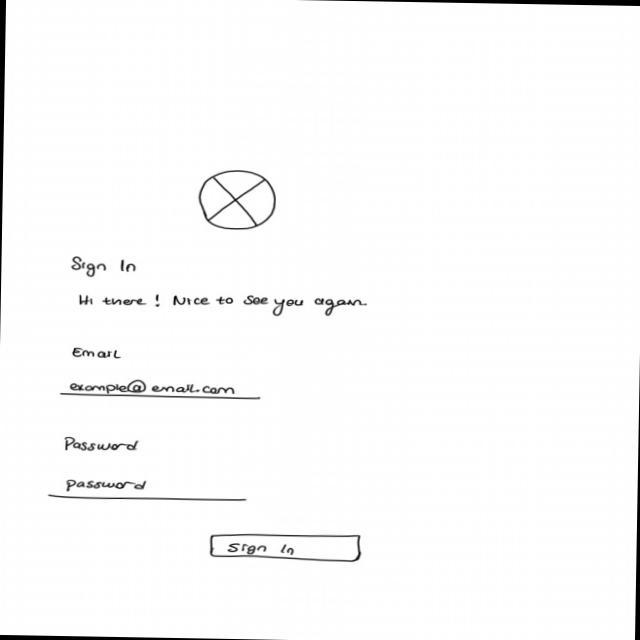button: (208, 530, 363, 561)
image: (77, 290, 369, 318), (195, 169, 279, 231), (63, 434, 142, 454), (68, 256, 139, 278), (70, 346, 122, 360)
input: (48, 477, 248, 503), (58, 376, 262, 401)
